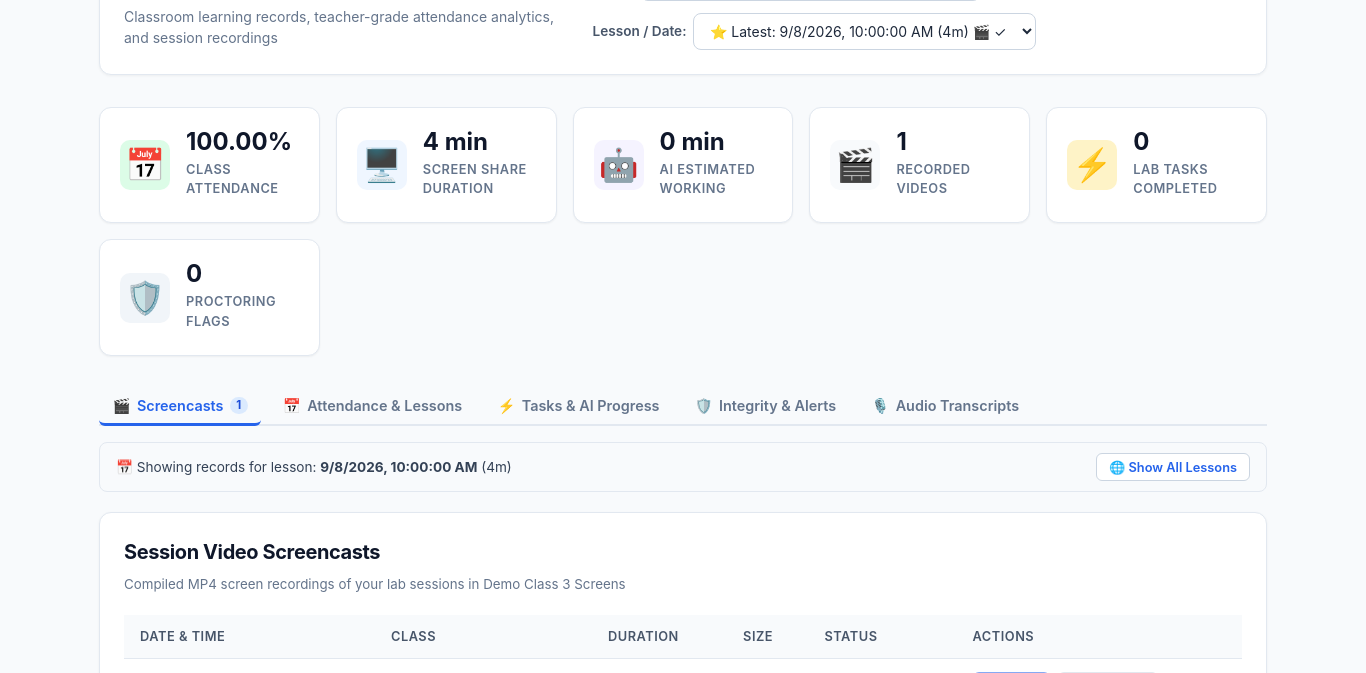
it: StudentRecordsView Component › synthesizes discovered lessons for all student screencasts ensuring dropdown shows all 3 lessons when screens have 3 recordings
This screenshot has width=1366, height=673.
Note: Switch to All Lessons
Step 1. Select "🌐 All Lessons / Full Semester (3)" in the dropdown labelled "Lesson / Date:" → x=864, y=32, box [693,13,1036,50]
(page scrolled)
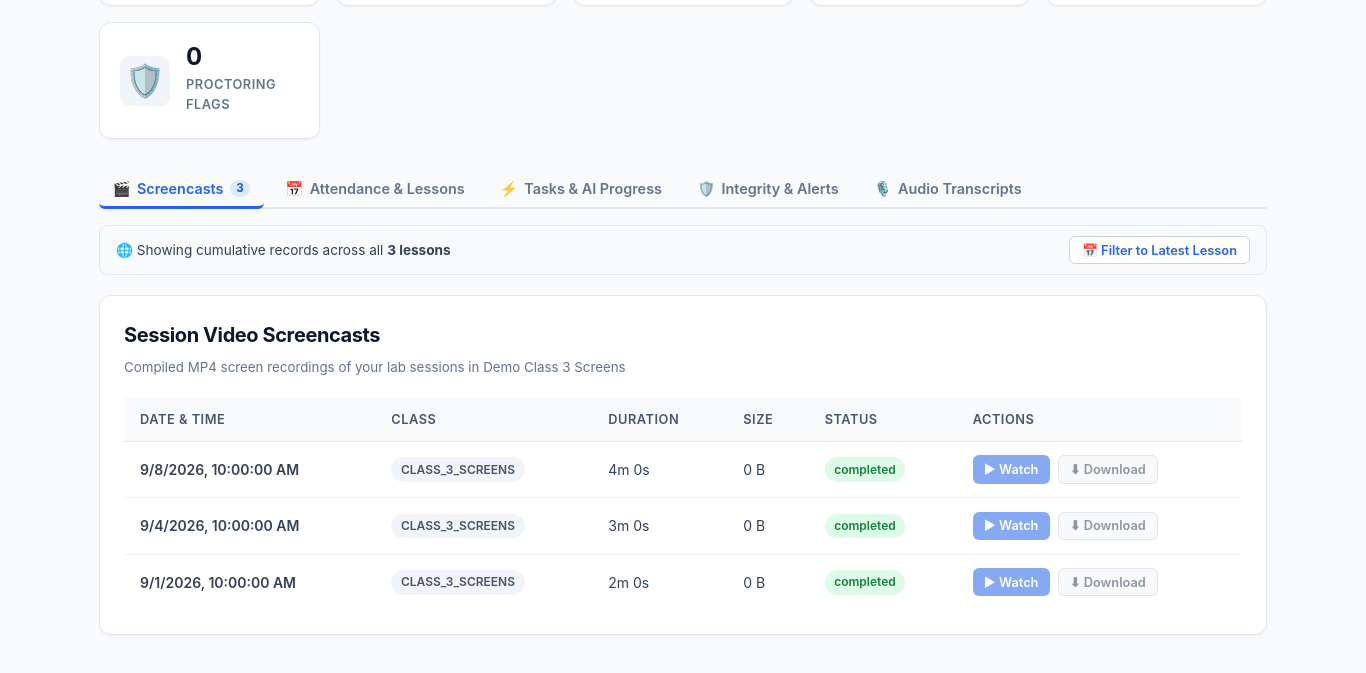
Expected: the text "4m 0s" is shown, [592,441,727,498]
Expected: the text "2m 0s" is shown, [592,554,727,610]
Expected: the text "3m 0s" is shown, [592,498,727,554]
